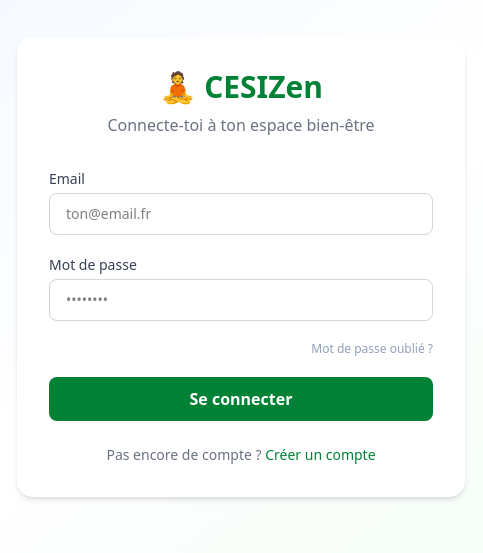
Scenario: LoginPage › affiche "Email ou mot de passe incorrect." si le login retourne 401
# Remplit les champs
Step 1. Type "mauvais@example.com" into the field labelled "Email" → (241, 214), box [49,193,433,235]
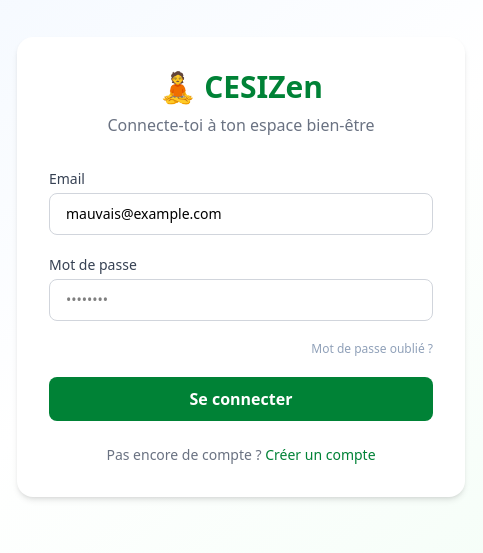
Step 2. Type "mauvais-mdp" into the password field labelled "Mot de passe" → (241, 300), box [49,279,433,321]
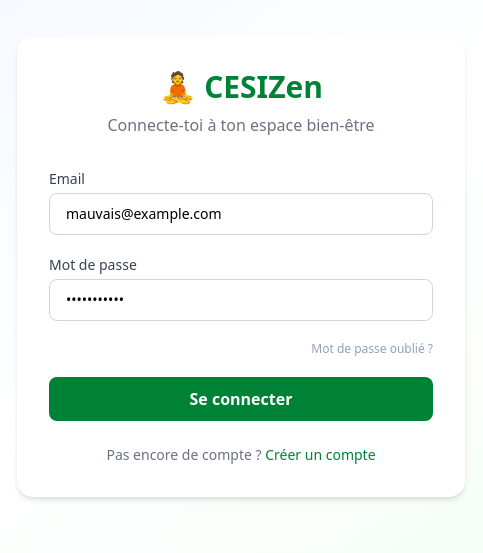
# Soumet le formulaire
Step 3. Click the button "Se connecter" → click(241, 399), box [49,377,433,421]
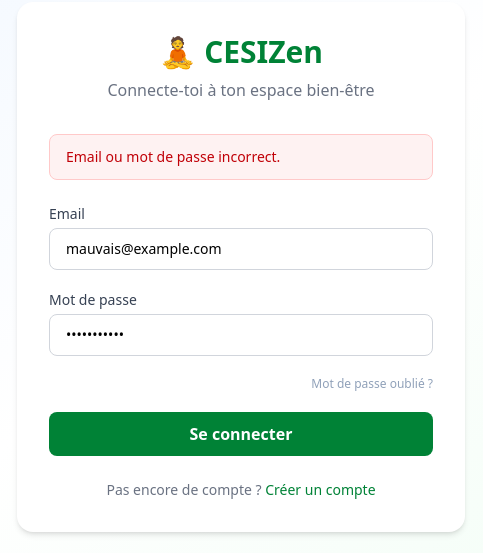
Check: the text "Email ou mot de passe incorrect." is shown, box [49,134,433,180]
